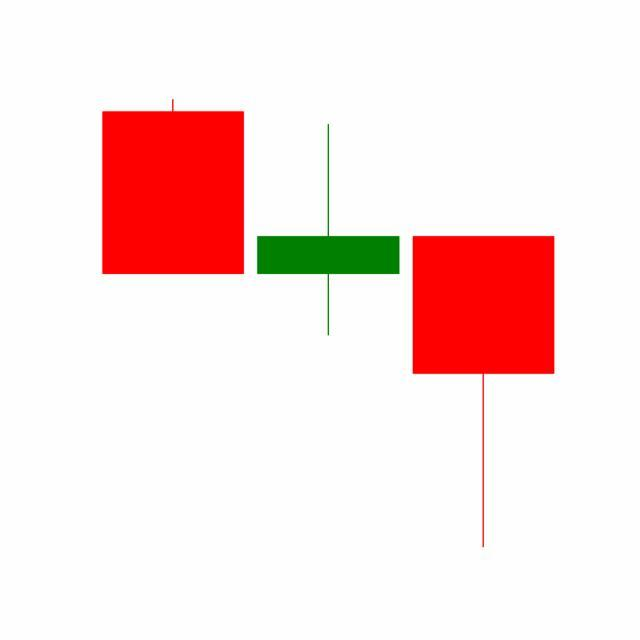Spinning Top: (250, 122, 407, 339)
